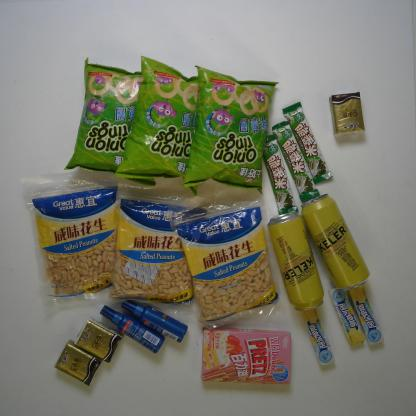Alcohol: (301, 193, 370, 290), (266, 211, 324, 311)
Candy: (348, 280, 386, 347), (299, 305, 336, 367), (329, 284, 363, 347)
Chocolate: (282, 102, 334, 185), (272, 121, 320, 204), (257, 133, 300, 218)
Dessert: (201, 326, 291, 386)
Dried Fruit: (22, 156, 144, 307), (166, 186, 284, 330), (106, 171, 220, 319)
Personal Hygiene: (100, 304, 165, 354), (119, 300, 188, 344)
Puffed Food: (114, 55, 221, 197), (63, 58, 172, 187), (181, 66, 280, 195)
Tissue: (53, 340, 102, 384), (75, 318, 122, 362), (329, 92, 365, 137)
